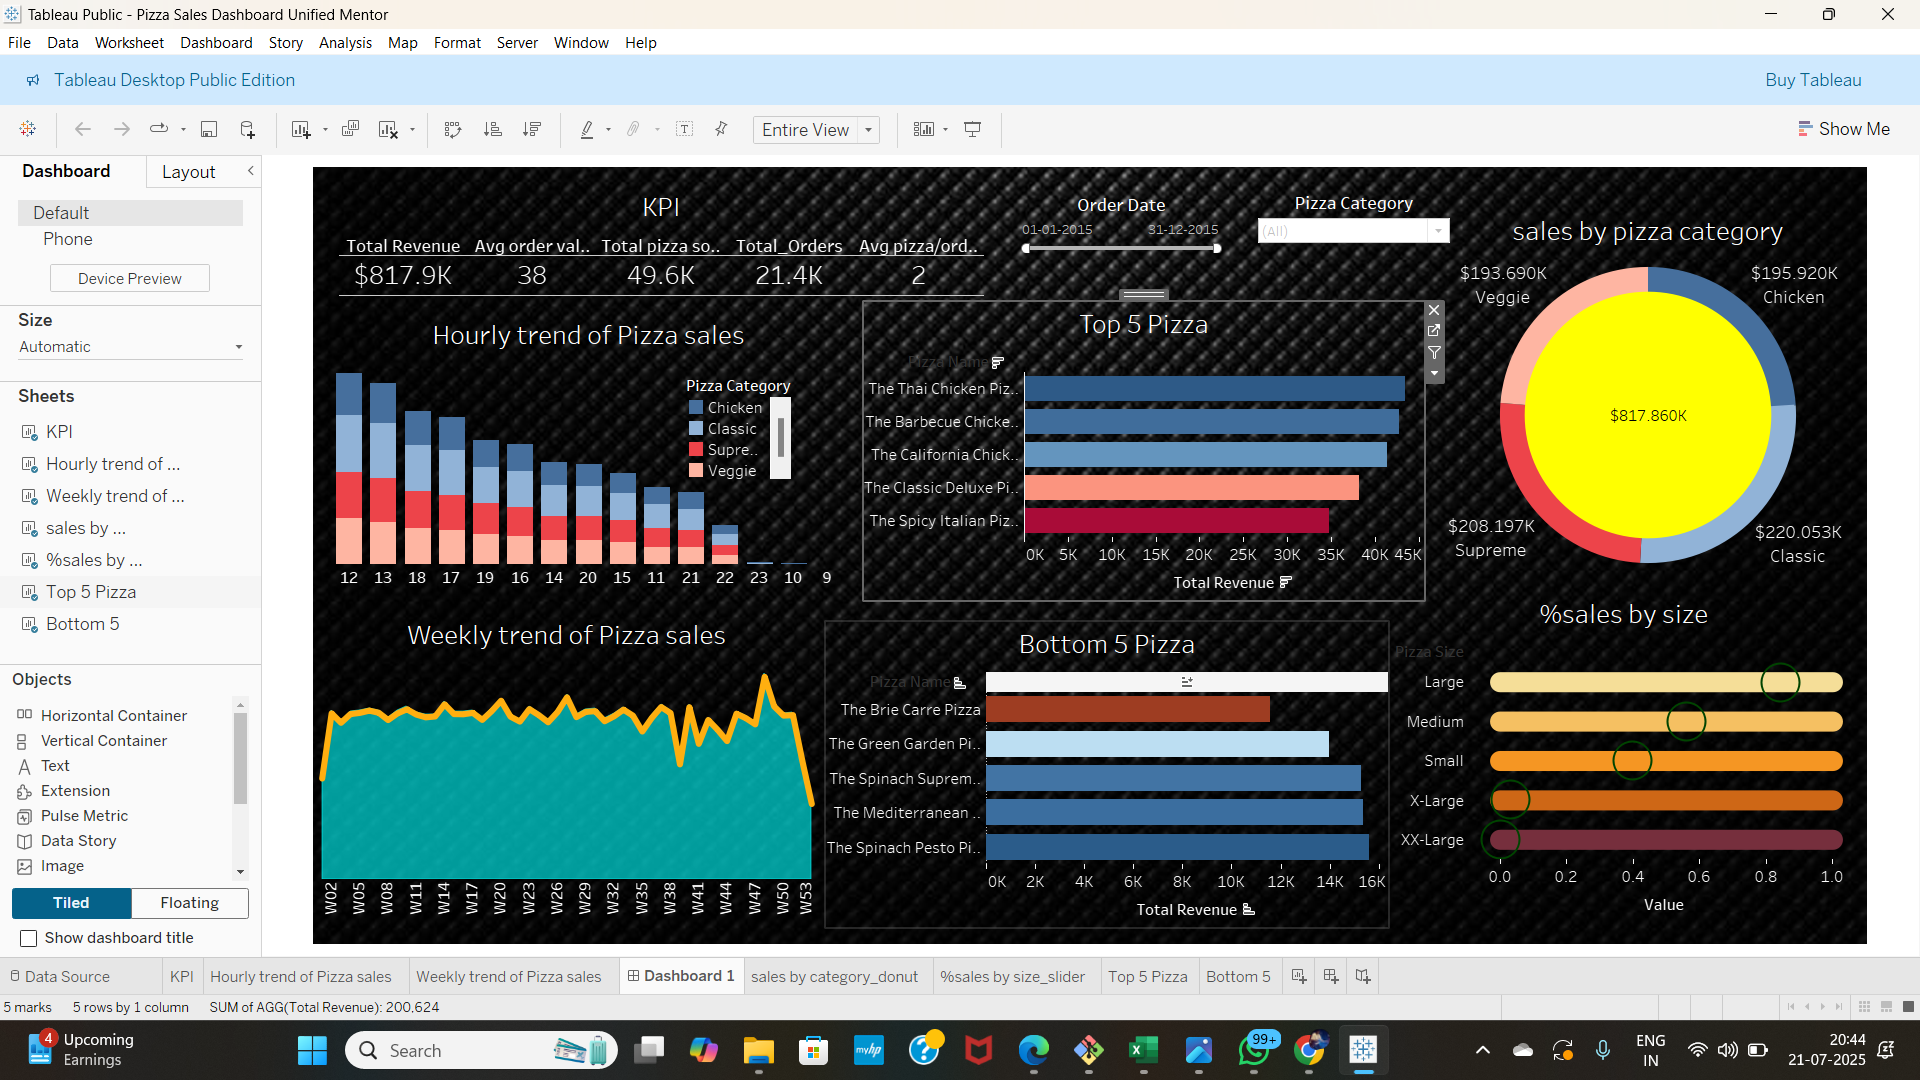

Layout of this report page (visuals, bound fields, positions):
{"tool":"tableau","page":{"name":"Dashboard 1","canvas":[1000,1000],"units":"permille","ordinal":0},"visuals":[{"type":"image","param":"Image/black-background-modern-dark-abstract-texture-vector.jpg","box":[4.8,10,990.3,980]},{"type":"worksheet","title":"KPI","mark":"Automatic","box":[46.5,37.5,389.3,138.6]},{"type":"filter","title":"Top 5 Pizza","param":"[federated.0w8yai107s5wvp1gez2rf041udgf].[none:pizza_category:nk]","box":[599.3,43.5,119.5,104.6]},{"type":"filter","title":"Top 5 Pizza","param":"[federated.0w8yai107s5wvp1gez2rf041udgf].[none:order_date:qk]","box":[455.6,45.8,126.1,76.4]},{"type":"worksheet","title":"sales by category_donut","mark":"Pie","rows":["Calculation_1552053090282889217","Calculation_1552053090282889217"],"box":[669.9,67,333.1,452.4]},{"type":"worksheet","title":"Top 5 Pizza","mark":"Automatic","rows":["pizza_name"],"cols":["Calculation_1307169860208939009"],"box":[363.3,183.5,338,372]},{"type":"worksheet","title":"Hourly trend of Pizza sales","mark":"Bar","rows":["Calculation_1307169860210253828"],"cols":["order_time"],"box":[42.2,197.2,309.6,344.6]},{"type":"legend","title":"Hourly trend of Pizza sales","param":"[federated.0w8yai107s5wvp1gez2rf041udgf].[none:pizza_category:nk]","box":[255.9,275,64.6,129.3]},{"type":"worksheet","title":"%sales by size_slider","mark":"Line","rows":["pizza_size"],"cols":["Calculation_1307169860208939009"],"box":[680.1,545.6,283.7,412]},{"type":"worksheet","title":"Weekly trend of Pizza sales","mark":"Area","rows":["Calculation_1307169860210253828","Calculation_1307169860210253828"],"cols":["order_date"],"box":[33.2,571.8,301.2,378.3]},{"type":"worksheet","title":"Bottom 5","mark":"Automatic","rows":["pizza_name"],"cols":["Calculation_1307169860208939009"],"box":[340.4,583,339.2,380.9]}]}

Visuals, with their boxes on the dashboard's canvas, which has no fixed pixel size, in thousandths of its width and height (x1, y1, x2, y2). These are canvas units, not pixel positions in the 1920x1080 screenshot, which may show the page scaled, cropped or inside an application window:
image: Rect(5, 10, 995, 990)
"KPI" worksheet: Rect(46, 38, 436, 176)
"Top 5 Pizza" filter: Rect(599, 44, 719, 148)
"Top 5 Pizza" filter: Rect(456, 46, 582, 122)
"sales by category_donut" worksheet (Pie marks): Rect(670, 67, 1003, 519)
"Top 5 Pizza" worksheet: Rect(363, 184, 701, 556)
"Hourly trend of Pizza sales" worksheet (Bar marks): Rect(42, 197, 352, 542)
"Hourly trend of Pizza sales" legend: Rect(256, 275, 320, 404)
"%sales by size_slider" worksheet (Line marks): Rect(680, 546, 964, 958)
"Weekly trend of Pizza sales" worksheet (Area marks): Rect(33, 572, 334, 950)
"Bottom 5" worksheet: Rect(340, 583, 680, 964)
